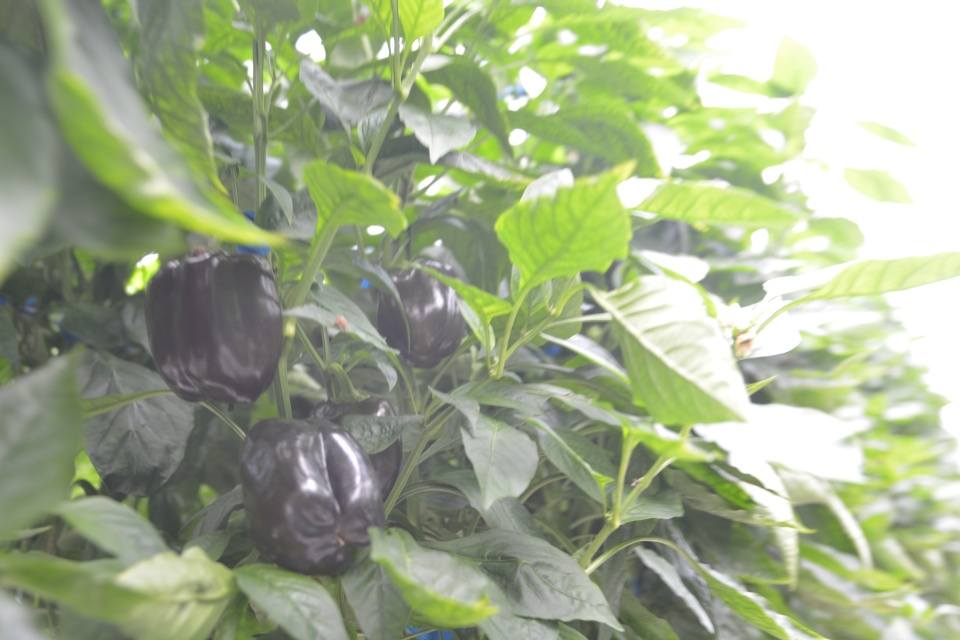fruit: (143, 243, 285, 411), (240, 430, 388, 580), (307, 392, 404, 503), (374, 265, 465, 368)
pedicle: (331, 392, 372, 404)
